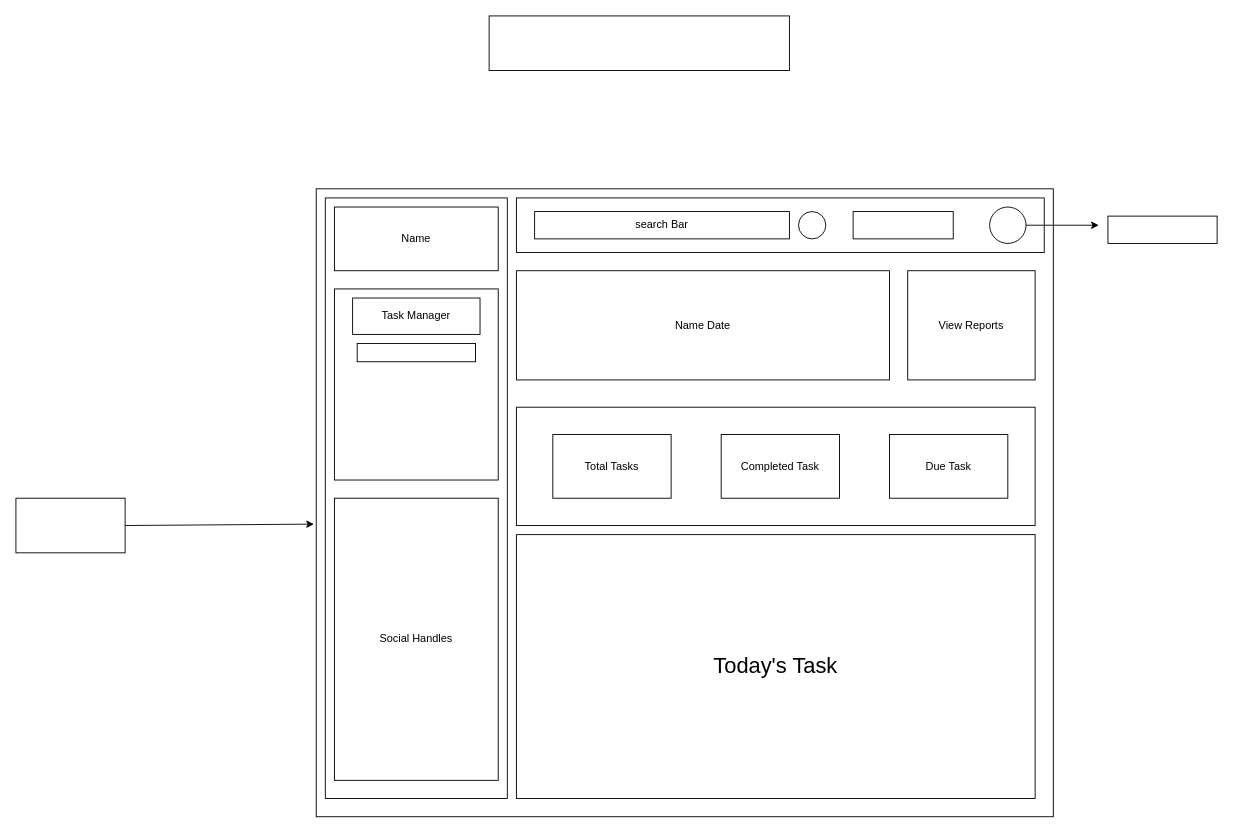
This 1233x833 diagram has some shape labels left out. The shapes that lost their labels are listed below. From the top down, each one's centre as x and y in pixels, then its label:
At (x=638, y=43): "TaskSphere".
At (x=902, y=225): "Add Task".
At (x=1162, y=229): "Profile".
At (x=415, y=352): "View Report".
At (x=70, y=525): "DashBoard".
